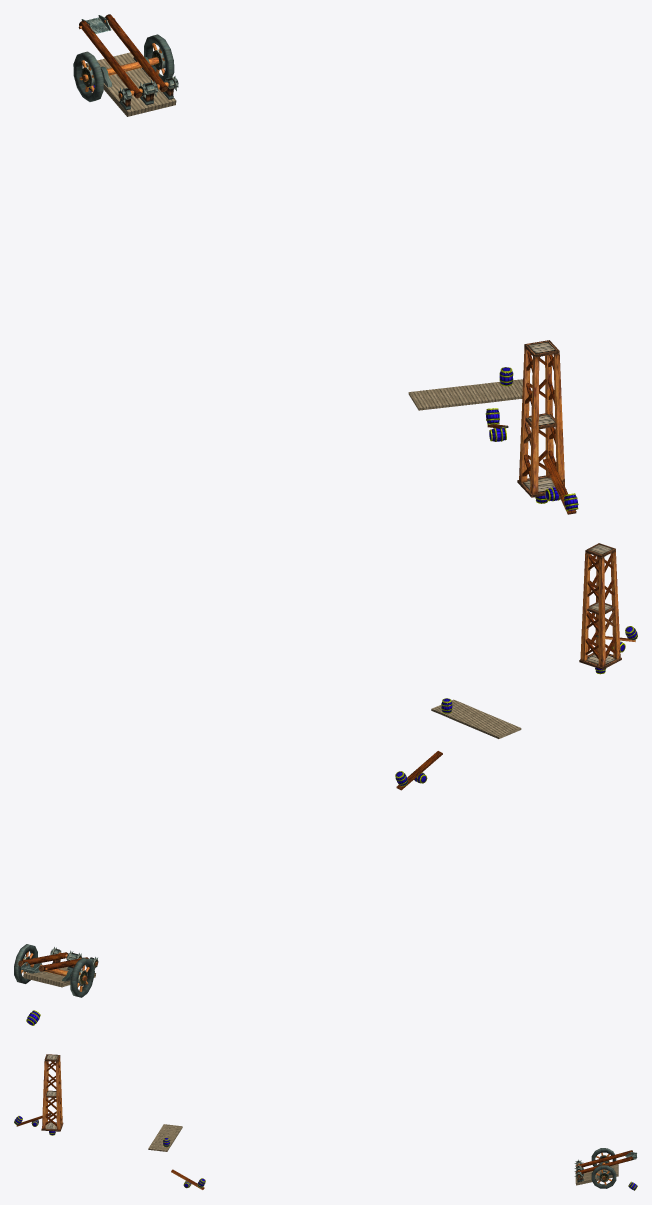
The model's file is CONTRAPTION2.fbx.
3 views of the same model, one above another, from view 1: azimuth 30°, elevation 25°; view 2: azimuth 150°, elevation 25°; view 3: azimuth 270°, elevation 25° (orthographic). The views are drawn at different scales.
Parts seen in each view (by area): view 1: CONTRAPTION2; view 2: CONTRAPTION2; view 3: CONTRAPTION2.
Boxes of the visible parts, x1,y1,x2,y2 form: CONTRAPTION2: (73, 14, 578, 514); CONTRAPTION2: (14, 543, 637, 1025); CONTRAPTION2: (14, 1054, 637, 1190).
Bounding box in the file's own units: 103744 × 110969 × 583849.
Materials: 11 (11 with a texture image).
